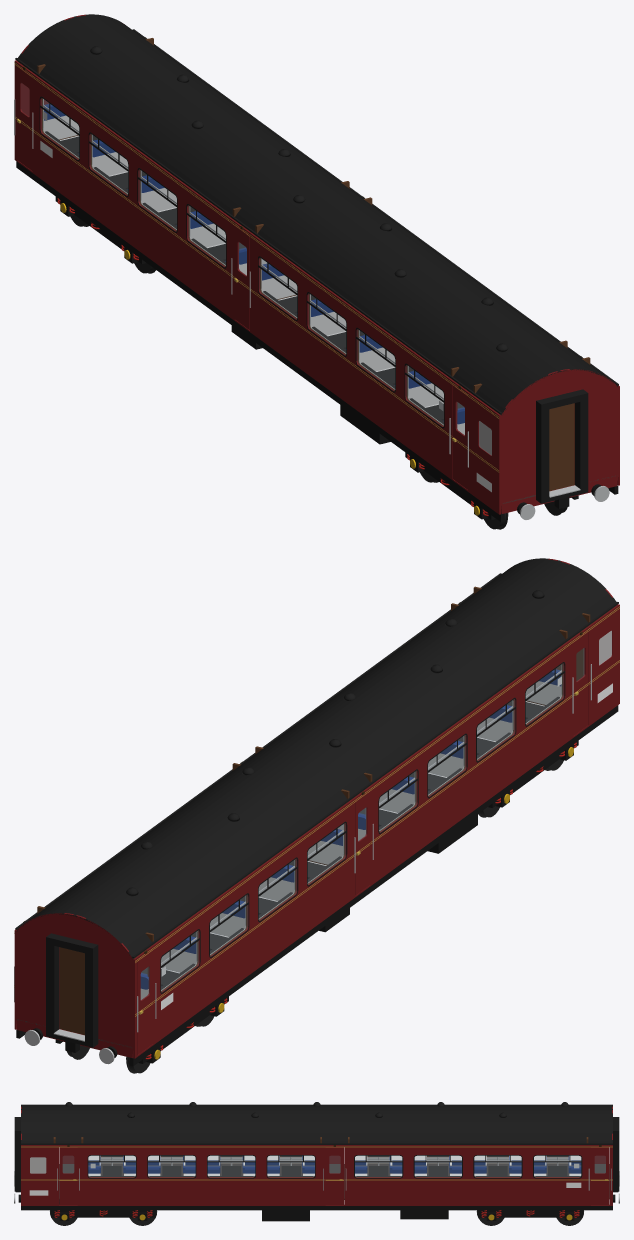
File: coach_tso2_lod0.glb
The picture shows the model from 3 angles, top to bottom: view 1: azimuth 30°, elevation 25°; view 2: azimuth 150°, elevation 25°; view 3: azimuth 270°, elevation 25°; orthographic projection. The views are drawn at different scales.
Visible parts, largest first — view 1: coach_static_roof_black, coach_static_coach_maroon, coach_static_glass, coach_static_rubber, coach_static_underframe, coach_int_decal_seatfabric, coach_int_table_top, coach_static_lining_gold, gw_door_A_wood_panel, coach_int_wood_panel, coach_int_seat_vinyl, coach_int_steel (+4 smaller); view 2: coach_static_roof_black, coach_static_coach_maroon, coach_static_glass, coach_static_rubber, coach_static_underframe, coach_int_decal_seatfabric, coach_int_table_top, coach_static_lining_gold, coach_int_wood_panel, gw_door_B_wood_panel, coach_int_seat_vinyl, coach_int_steel (+4 smaller); view 3: coach_static_roof_black, coach_static_coach_maroon, coach_static_glass, coach_static_underframe, coach_static_rubber, coach_int_seat_vinyl, coach_int_table_top, coach_static_lining_gold, coach_int_decal_seatfabric, coach_int_steel, coach_int_carpet, coach_door_C_L_coach_maroon (+9 smaller).
Boxes of the visible parts, x1,y1,x2,y2 form: coach_static_roof_black: (15, 14, 618, 415); coach_static_coach_maroon: (14, 14, 619, 514); coach_static_glass: (41, 98, 443, 426); coach_static_rubber: (39, 96, 588, 503); coach_static_underframe: (16, 161, 618, 522); coach_int_decal_seatfabric: (44, 115, 464, 434); coach_int_table_top: (45, 131, 463, 424); coach_static_lining_gold: (14, 62, 499, 472); gw_door_A_wood_panel: (549, 403, 574, 490); coach_int_wood_panel: (17, 38, 590, 453); coach_int_seat_vinyl: (44, 104, 464, 424); coach_int_steel: (43, 99, 443, 425); coach_static_roof_black: (15, 558, 618, 958); coach_static_coach_maroon: (14, 558, 619, 1058); coach_static_glass: (161, 664, 563, 991); coach_static_rubber: (46, 662, 565, 1047); coach_static_underframe: (16, 705, 618, 1066); coach_int_decal_seatfabric: (140, 681, 561, 999); coach_int_table_top: (141, 696, 559, 990); coach_static_lining_gold: (14, 606, 619, 1016); coach_int_wood_panel: (37, 586, 616, 991); gw_door_B_wood_panel: (59, 947, 84, 1034); coach_int_seat_vinyl: (140, 669, 561, 989); coach_int_steel: (161, 648, 583, 990); coach_static_roof_black: (21, 1102, 612, 1144); coach_static_coach_maroon: (21, 1106, 612, 1205); coach_static_glass: (88, 1156, 580, 1177); coach_static_underframe: (16, 1191, 617, 1221); coach_static_rubber: (14, 1117, 619, 1191); coach_int_seat_vinyl: (88, 1155, 581, 1173); coach_int_table_top: (89, 1155, 580, 1176); coach_static_lining_gold: (21, 1146, 612, 1180); coach_int_decal_seatfabric: (88, 1155, 581, 1175); coach_int_steel: (88, 1157, 581, 1176); coach_int_carpet: (59, 1164, 609, 1198); coach_door_C_L_coach_maroon: (325, 1147, 343, 1204).
Bounding box in the file's own units: 2.9 × 3.99 × 20.12.
